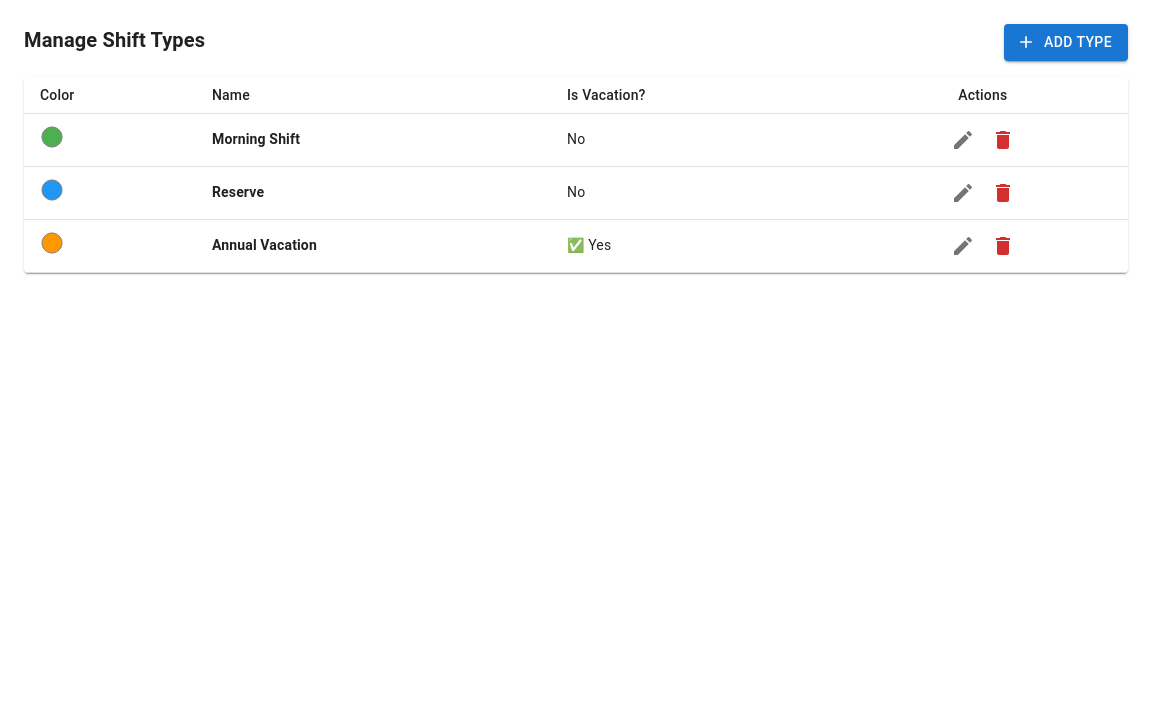
Scenario: ShiftTypesTab: vacation types and time slots › lets an unlinked shift type be marked as vacation
Click the button named "Edit shift type Reserve": (963, 192) 943,172 -> 983,212
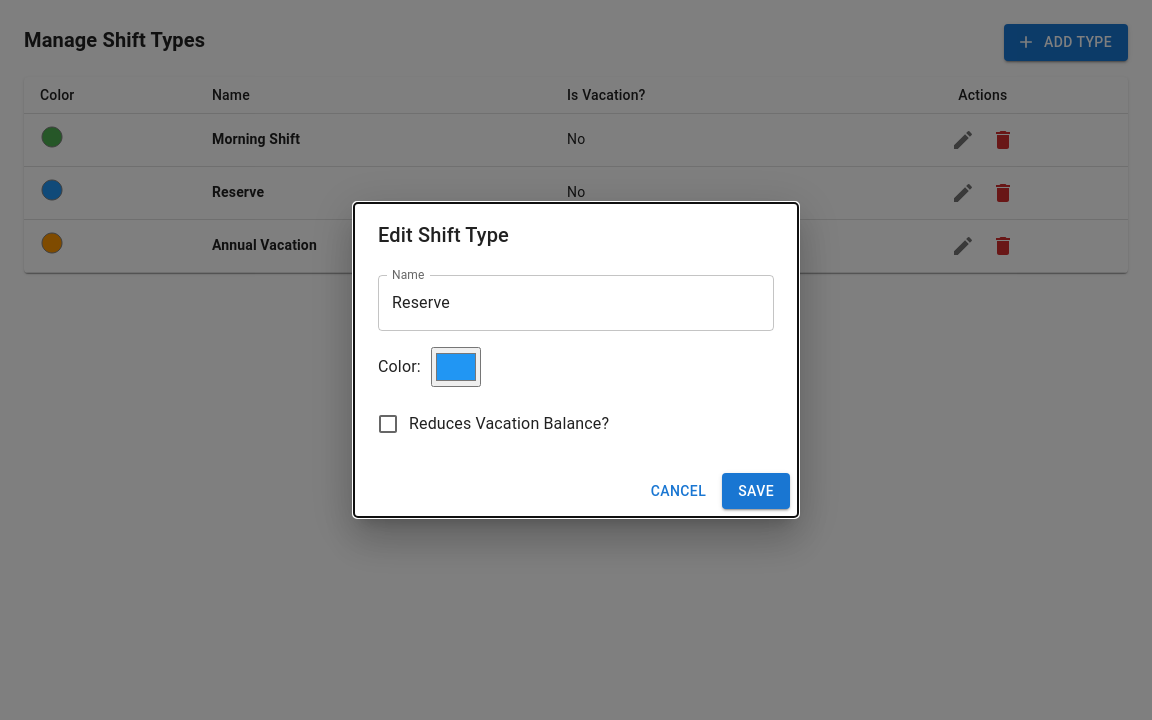
Result: the checkbox labelled "Reduces Vacation Balance?" is enabled at 376,412 -> 609,436
